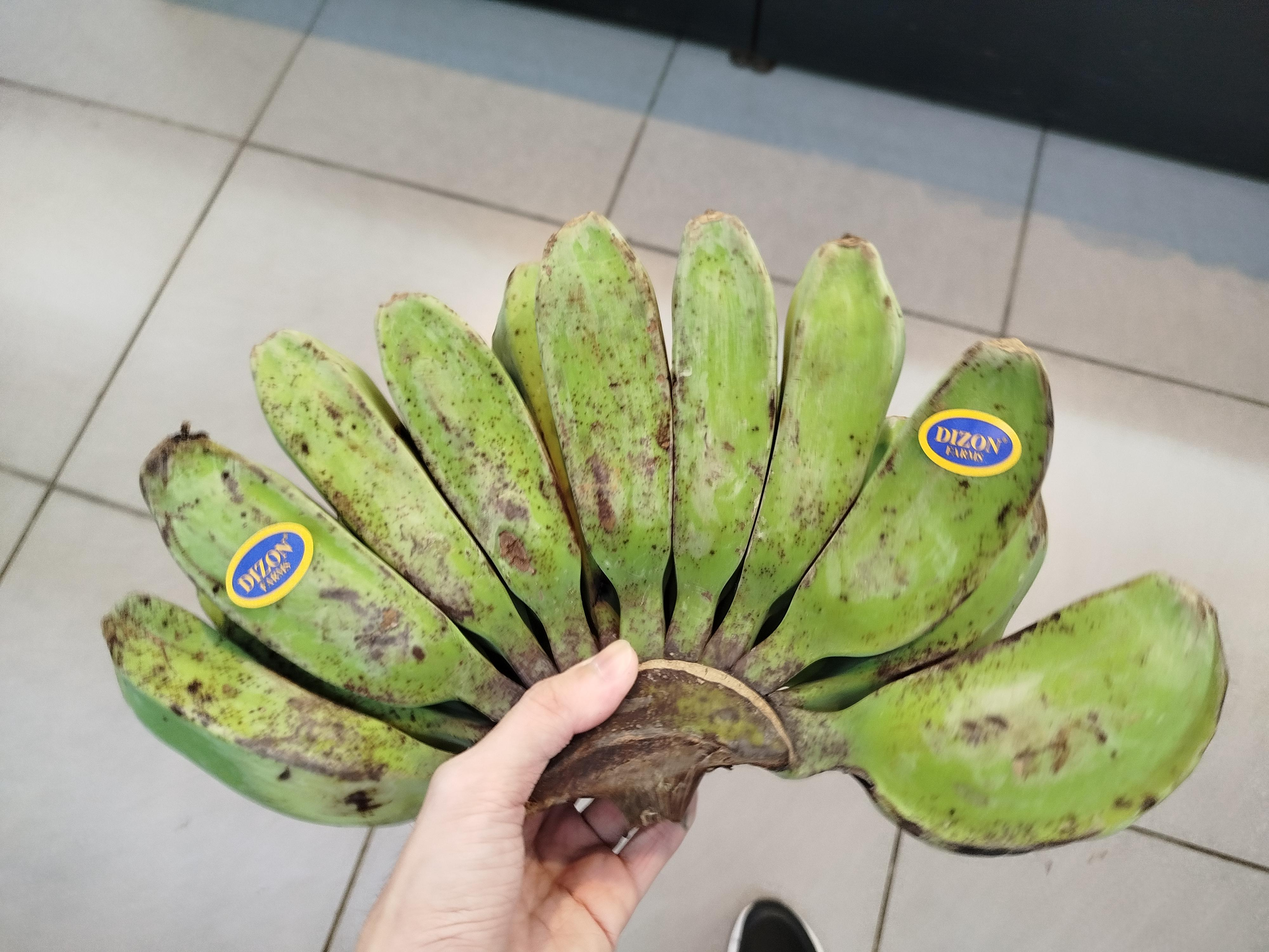underripe: (101, 213, 1225, 855)
